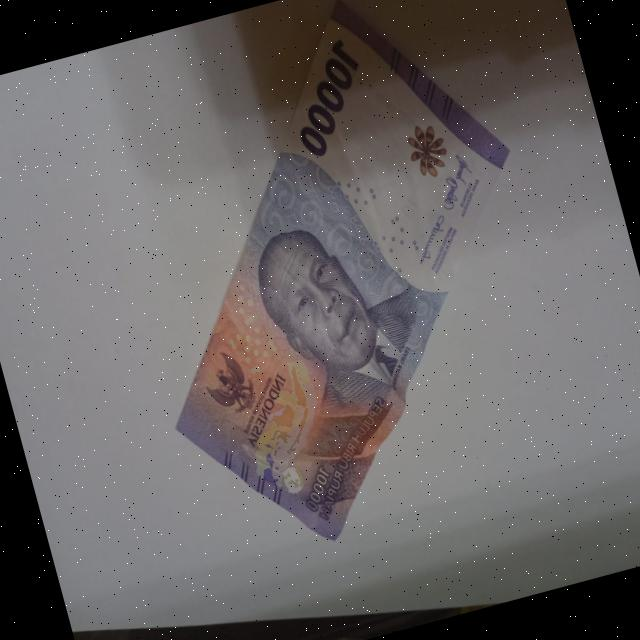10K: (72, 0, 601, 580)
